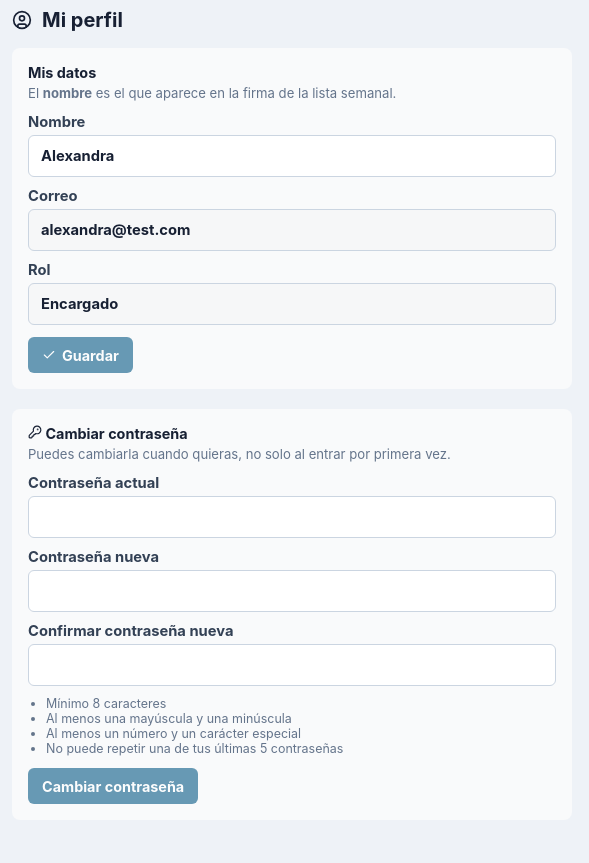
Test: ProfilePage › no envía si las contraseñas no coinciden
Type "Vieja1!" into the password field labelled "Contraseña actual" at [292, 517], box [28,496,556,538]
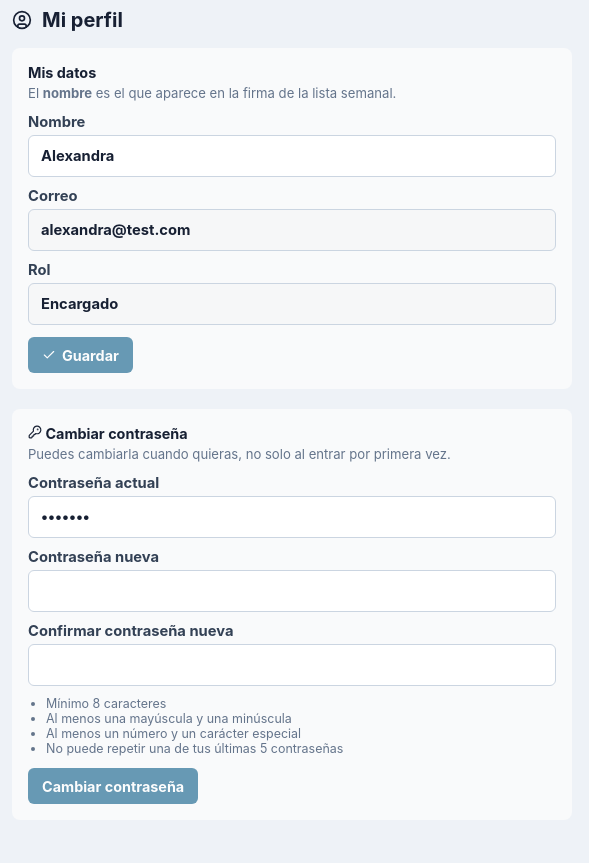
Type "Nueva123!" into the password field labelled "Contraseña nueva" at [292, 591], box [28,570,556,612]
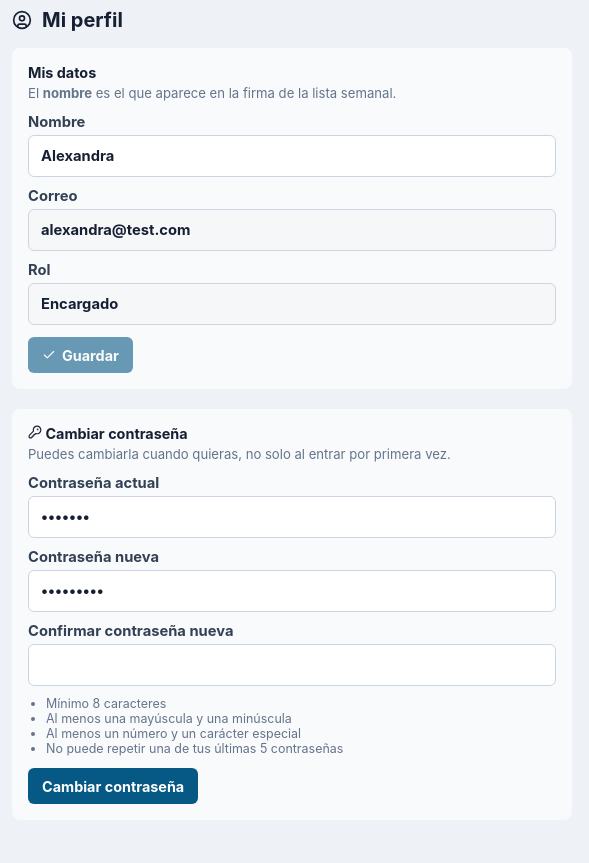
Type "Otra1234!" into the password field labelled "Confirmar contraseña nueva" at [292, 665], box [28,644,556,686]
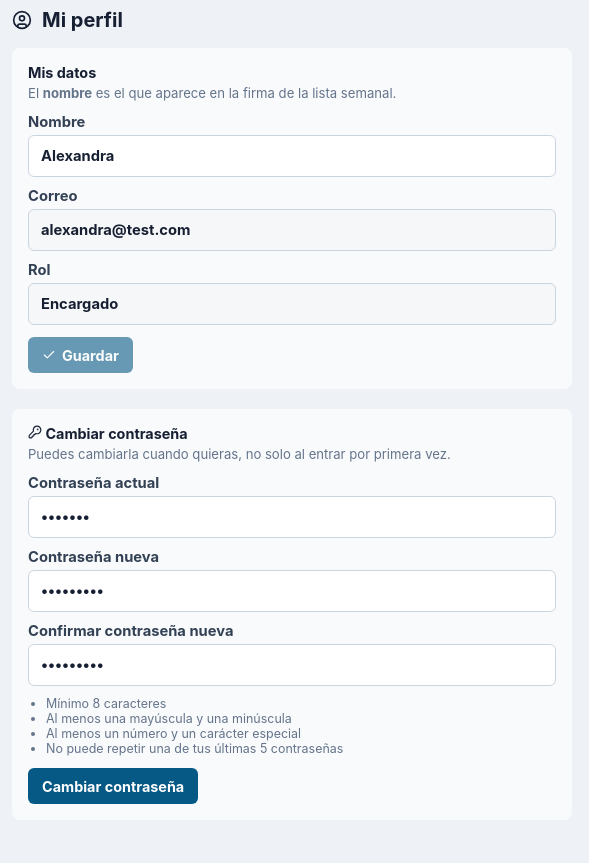
Click the button "Cambiar contraseña" at [113, 786], box [28,768,198,804]
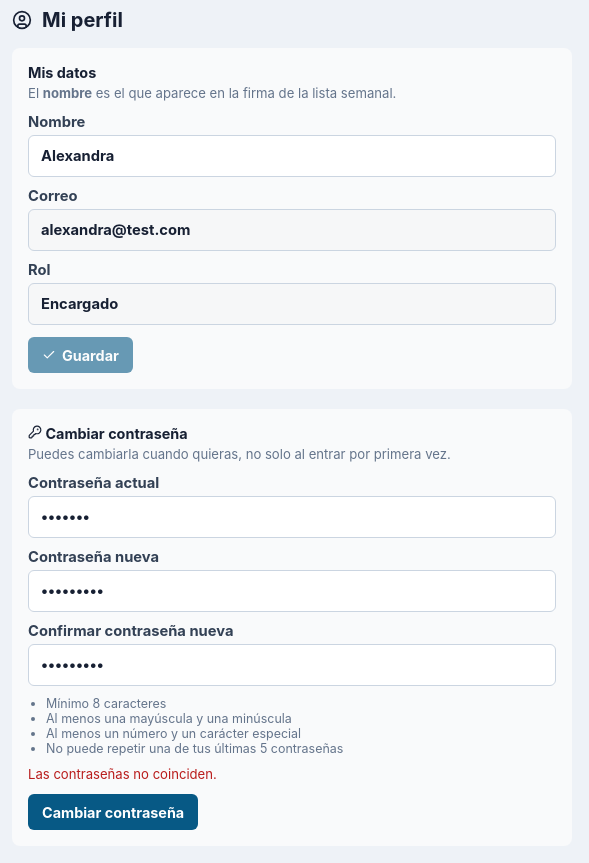
Check: the message shows "no coinciden", box [28,766,217,782]
